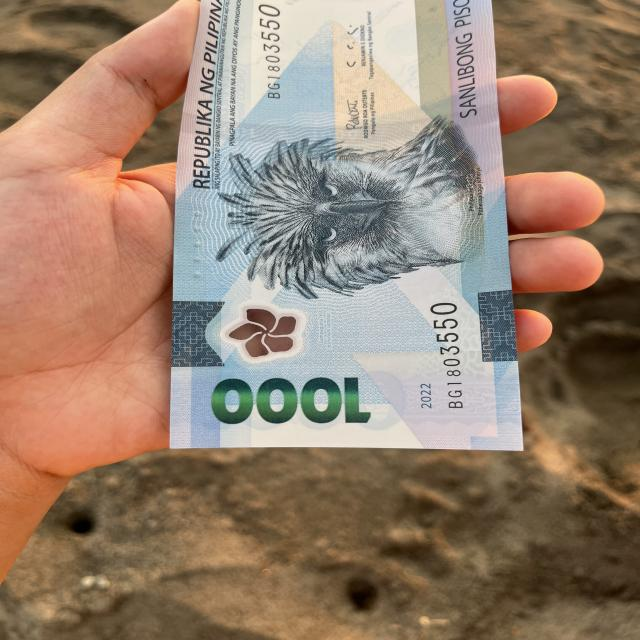eagle: (203, 117, 484, 290)
sampaguita: (210, 298, 308, 371)
